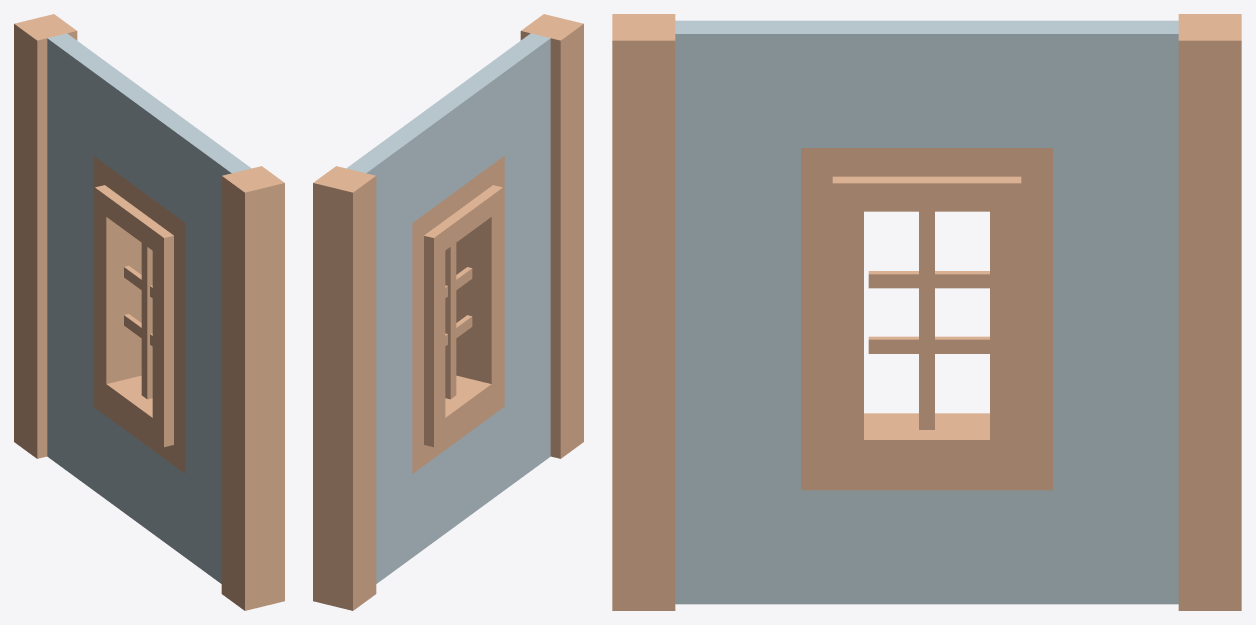
File: wallWindowGlass.glb
The picture shows the model from 3 angles, left to right: view 1: azimuth 30°, elevation 25°; view 2: azimuth 150°, elevation 25°; view 3: azimuth 270°, elevation 25°; orthographic projection. The views are drawn at different scales.
Visible parts, largest first — view 1: wallWindowGlass, detail; view 2: wallWindowGlass, detail; view 3: wallWindowGlass, detail.
Part boxes in pixels (<box>): wallWindowGlass: <box>14,14,284,610</box>; detail: <box>124,243,152,399</box>; wallWindowGlass: <box>313,14,583,610</box>; detail: <box>445,243,472,399</box>; wallWindowGlass: <box>612,14,1241,610</box>; detail: <box>868,211,989,429</box>.
Bounding box in the file's own units: 0.1 × 1 × 1.
